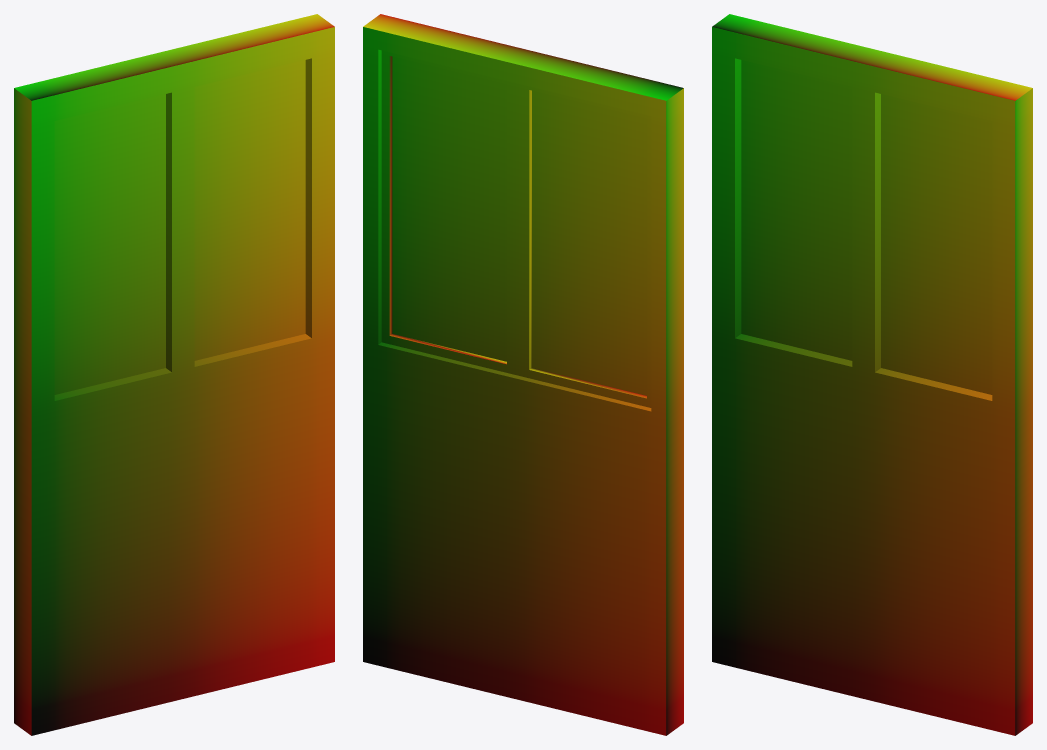
File: Base_Window_2_Glass.fbx
The picture shows the model from 3 angles, left to right: view 1: azimuth 30°, elevation 25°; view 2: azimuth 150°, elevation 25°; view 3: azimuth 330°, elevation 25°; orthographic projection.
Parts seen in each view (by area): view 1: Box001; view 2: Box001; view 3: Box001.
Part boxes in pixels (x1,y1,x2,y2): Box001: (14, 14, 334, 735); Box001: (363, 14, 683, 735); Box001: (712, 14, 1032, 735).
Bounding box in the file's own units: 100 × 200 × 10.
